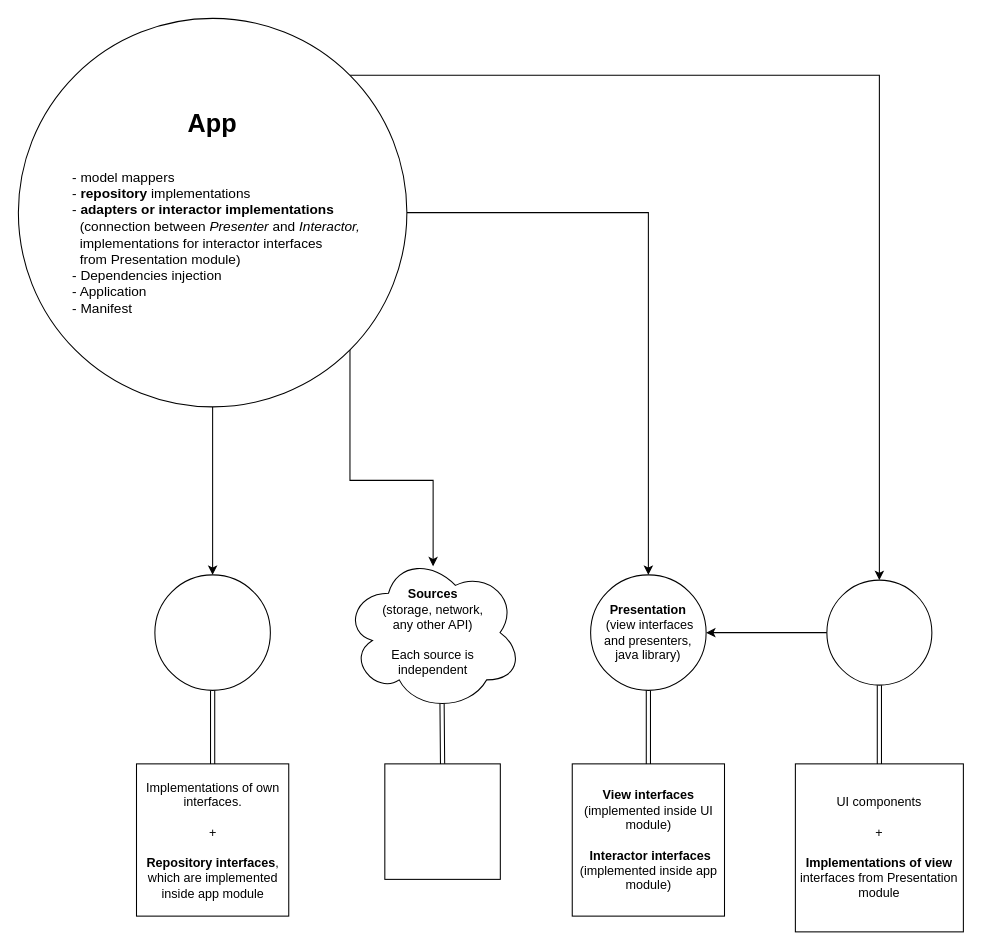
Image size: 982x950. Some labels were removed from this diagram. The centre of each missing label's shape, as x and y in pixels:
"Interactors (app business logic, java library)" belongs at [212,632].
"Just implementations of own interfaces." belongs at [442,821].
"UI (Android library)" belongs at [879,632].
